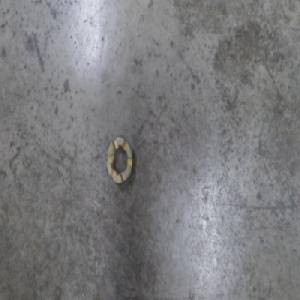Nut: (104, 132, 134, 185)
